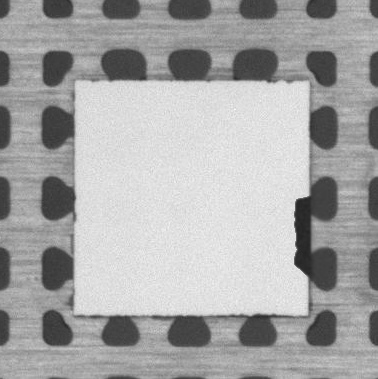DIE_BROKEN: (291, 193, 313, 277)
